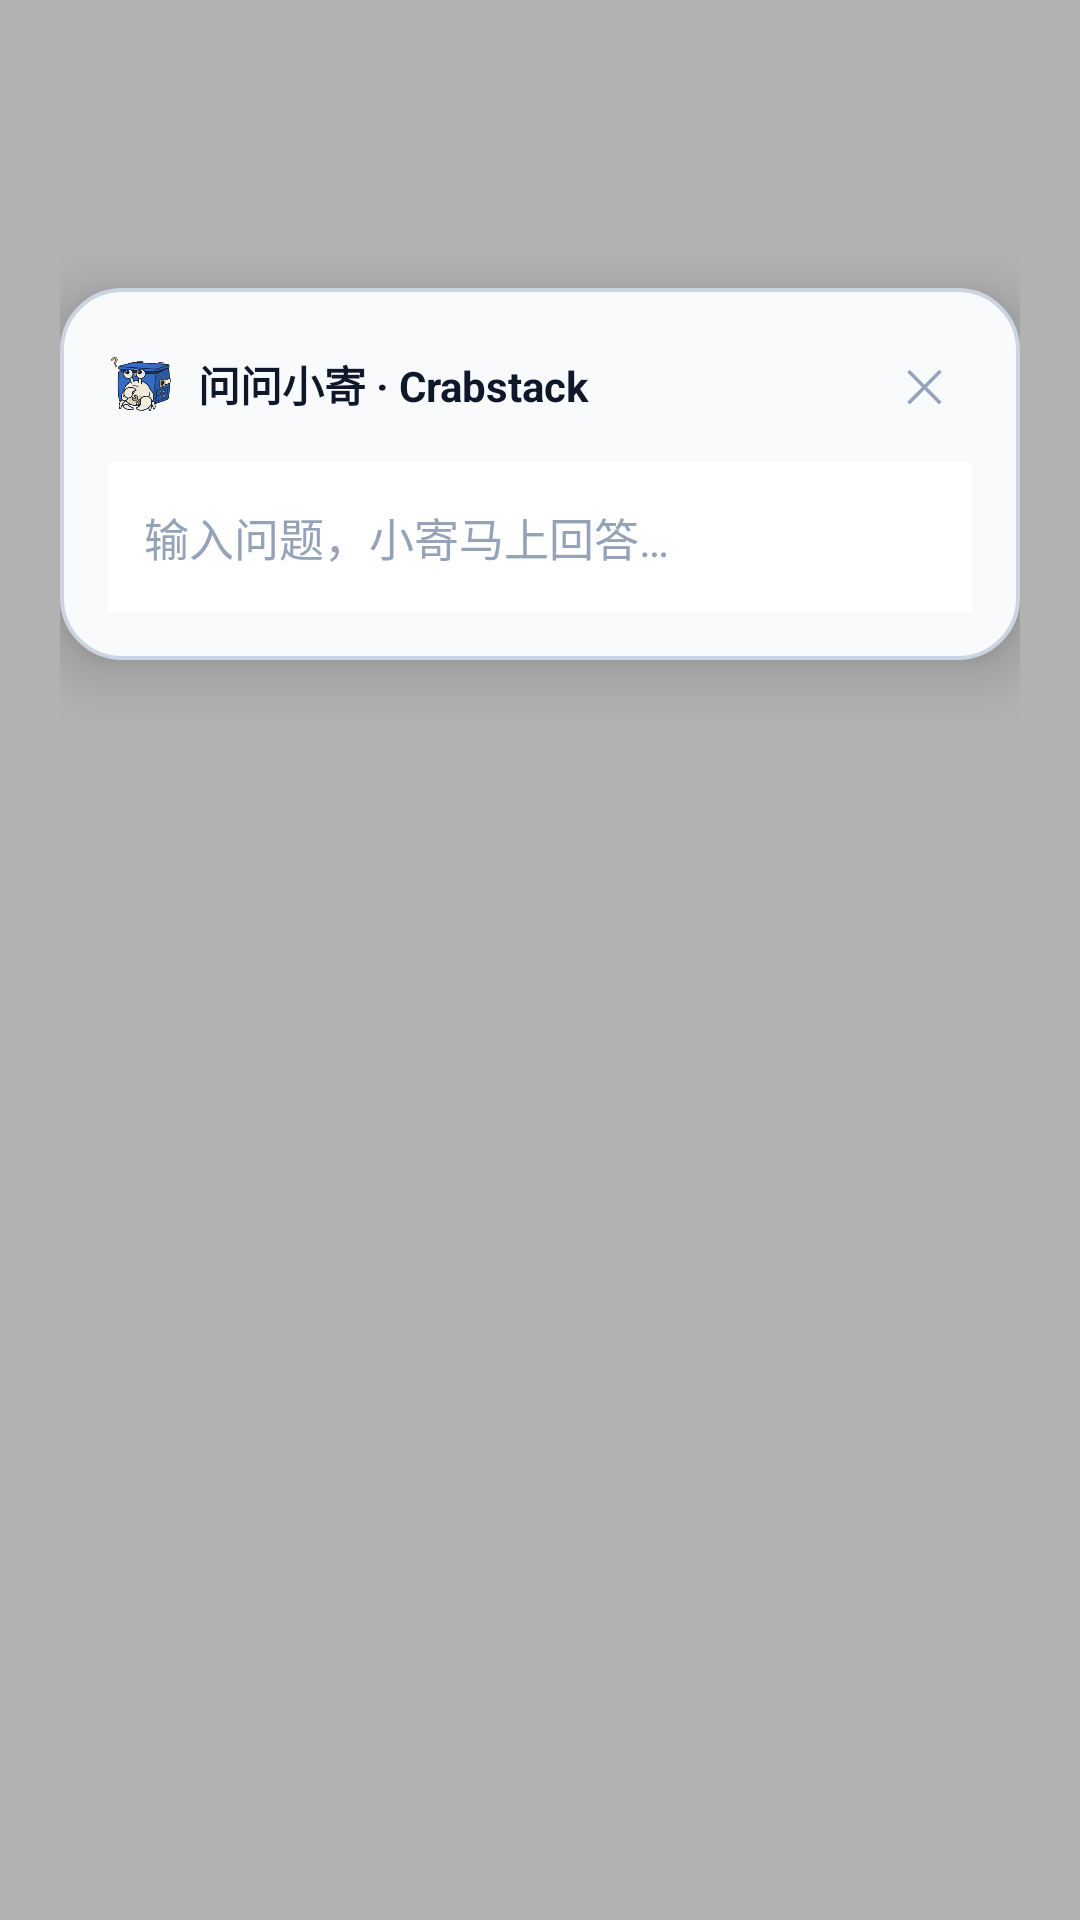

Icon click points for this 1080x1920 phone screenshot, format (x=x, y=y):
xiaoji thinking: (x=141, y=384)
